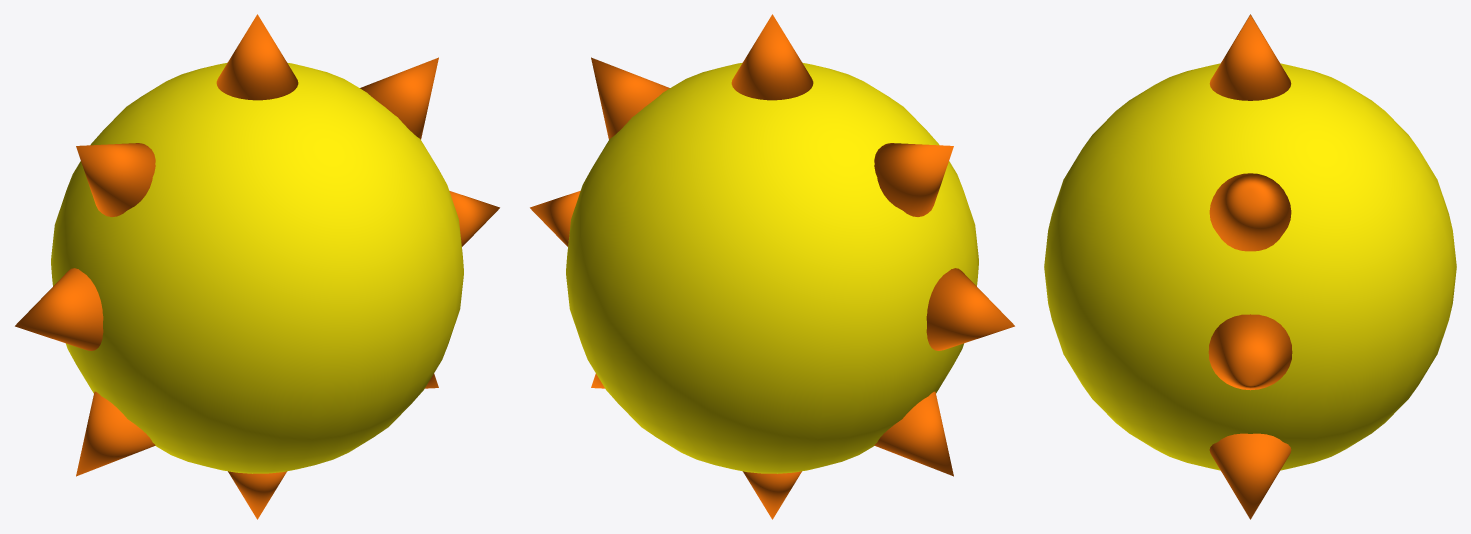
Rendered from TogeBall.fbx.
3 views of the same model, side by side, from view 1: azimuth 30°, elevation 25°; view 2: azimuth 150°, elevation 25°; view 3: azimuth 270°, elevation 25° (orthographic).
Parts seen in each view (by area): view 1: 球, 円錐.001, 円錐.002, 円錐; view 2: 球, 円錐.001, 円錐.002, 円錐; view 3: 球, 円錐.001, 円錐.002, 円錐.
Part boxes in pixels (box(x1,y1,x2,y2)): 球: box(51, 62, 463, 473); 円錐.001: box(76, 57, 438, 476); 円錐.002: box(15, 191, 499, 350); 円錐: box(216, 14, 298, 519); 球: box(566, 62, 978, 473); 円錐.001: box(591, 57, 953, 476); 円錐.002: box(530, 191, 1014, 350); 円錐: box(731, 14, 813, 519); 球: box(1044, 63, 1456, 470); 円錐.001: box(1209, 14, 1291, 519); 円錐.002: box(1208, 314, 1292, 390); 円錐: box(1209, 15, 1291, 100).
Size of the model in its own units: 271 by 270 by 200.
Materials: 2 (2 with a texture image).
